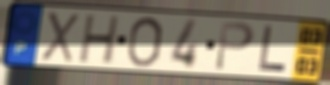4: (167, 17, 200, 73)
H: (76, 13, 122, 66)
L: (256, 24, 288, 75)
O: (124, 15, 166, 69)
P: (213, 19, 257, 73)
X: (39, 10, 81, 65)
